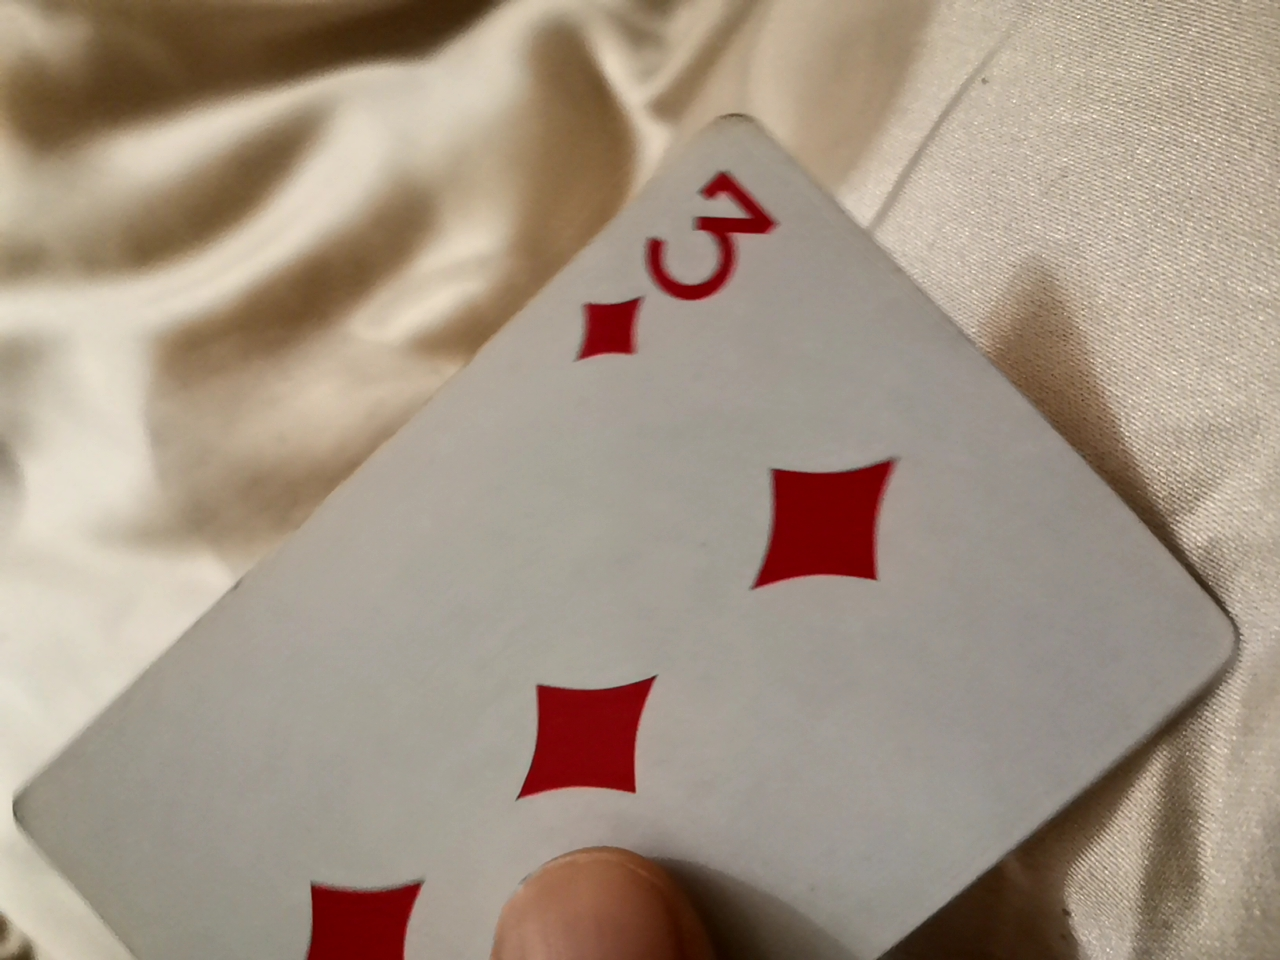fk 3: (67, 105, 1204, 949)
